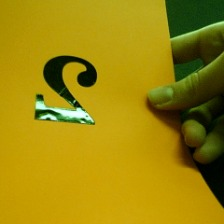orange2: (26, 51, 101, 130)
